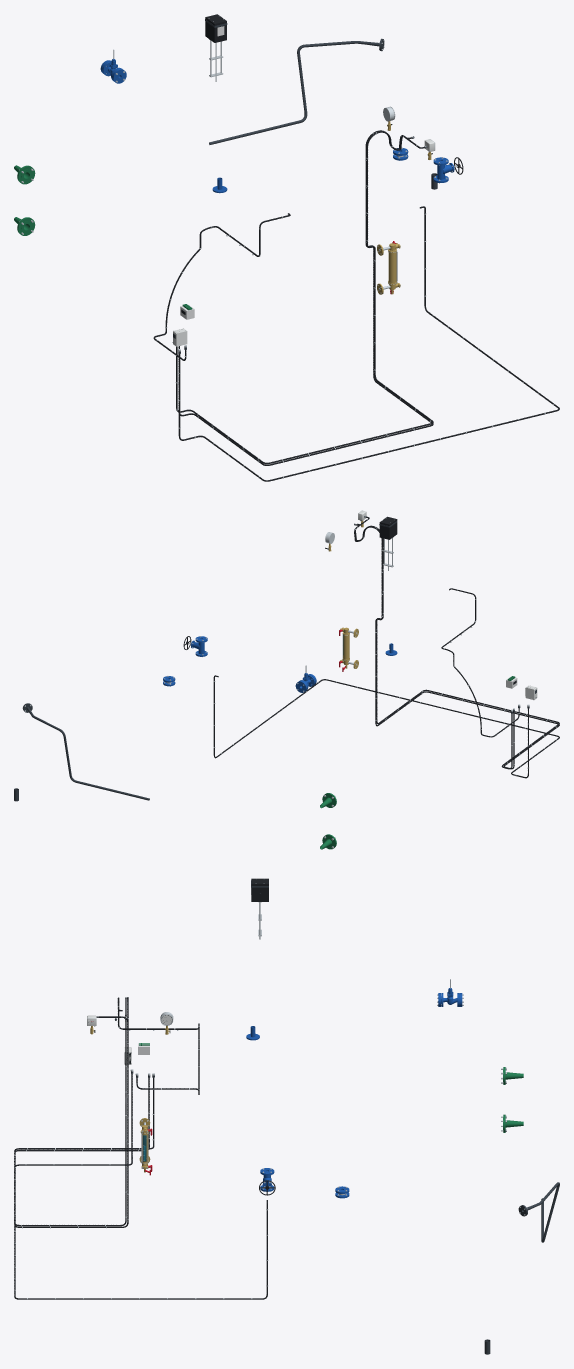
File: s4000-4-aoveP2th.glb
3 views of the same model, one above another, from view 1: azimuth 30°, elevation 25°; view 2: azimuth 150°, elevation 25°; view 3: azimuth 270°, elevation 25° (orthographic). The views are drawn at different scales.
Parts seen in each view (by area): view 1: wiring_pump_1 / black, wiring_pressure_switch_2 / black, wiring_pressure_switch_1 / black, tds_without_fv / dark, sight_glasses_1 / sight_glasses_1_0.npz, wiring_low_level_2 / black, eco_inlet_adapter / green; view 2: wiring_pressure_switch_1 / black, wiring_pump_1 / black, wiring_pressure_switch_2 / black, tds_without_fv / dark, sight_glasses_1 / sight_glasses_1_0.npz, wiring_low_level_2 / black; view 3: wiring_pump_1 / black, wiring_pressure_switch_2 / black, wiring_pressure_switch_1 / black.
Part boxes in pixels (x1,y1,x2,y2): wiring_pump_1 / black: (178, 206, 559, 481); wiring_pressure_switch_2 / black: (176, 131, 433, 464); wiring_pressure_switch_1 / black: (178, 130, 433, 465); tds_without_fv / dark: (209, 38, 384, 144); sight_glasses_1 / sight_glasses_1_0.npz: (377, 241, 400, 294); wiring_low_level_2 / black: (153, 213, 290, 360); eco_inlet_adapter / green: (14, 165, 35, 235); wiring_pressure_switch_1 / black: (354, 516, 559, 769); wiring_pump_1 / black: (213, 675, 559, 778); wiring_pressure_switch_2 / black: (355, 524, 559, 769); tds_without_fv / dark: (22, 703, 149, 800); sight_glasses_1 / sight_glasses_1_0.npz: (339, 627, 358, 671); wiring_low_level_2 / black: (441, 588, 519, 737); wiring_pump_1 / black: (14, 1074, 267, 1299); wiring_pressure_switch_2 / black: (14, 997, 154, 1226); wiring_pressure_switch_1 / black: (14, 997, 149, 1227).
Size of the model in its own units: 4.89 by 3.55 by 5.45.
